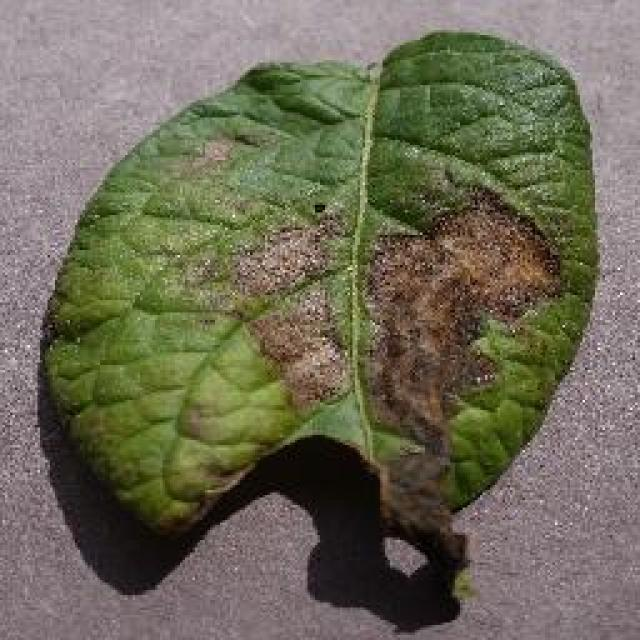Potato___Late_blight: (35, 29, 601, 581)
